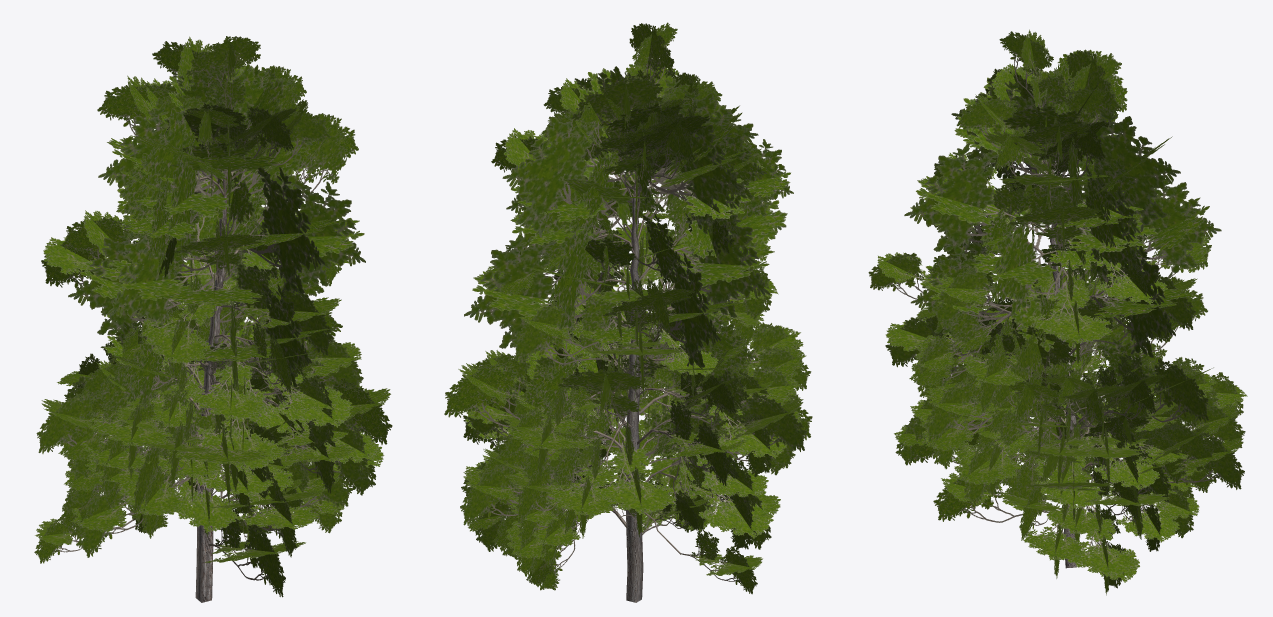
File: SassafrasAlbidum.glb
The picture shows the model from 3 angles, left to right: view 1: azimuth 30°, elevation 25°; view 2: azimuth 150°, elevation 25°; view 3: azimuth 270°, elevation 25°; orthographic projection. The views are drawn at different scales.
Parts seen in each view (by area): view 1: Sassafras__Realistic_LOD3; view 2: Sassafras__Realistic_LOD3; view 3: Sassafras__Realistic_LOD3.
Part boxes in pixels (bbox=[...]): Sassafras__Realistic_LOD3: bbox=[34, 36, 392, 602]; Sassafras__Realistic_LOD3: bbox=[444, 22, 812, 602]; Sassafras__Realistic_LOD3: bbox=[868, 29, 1247, 595].
Size of the model in its own units: 10.28 by 15.66 by 10.4.
1 material, 1 textured.
